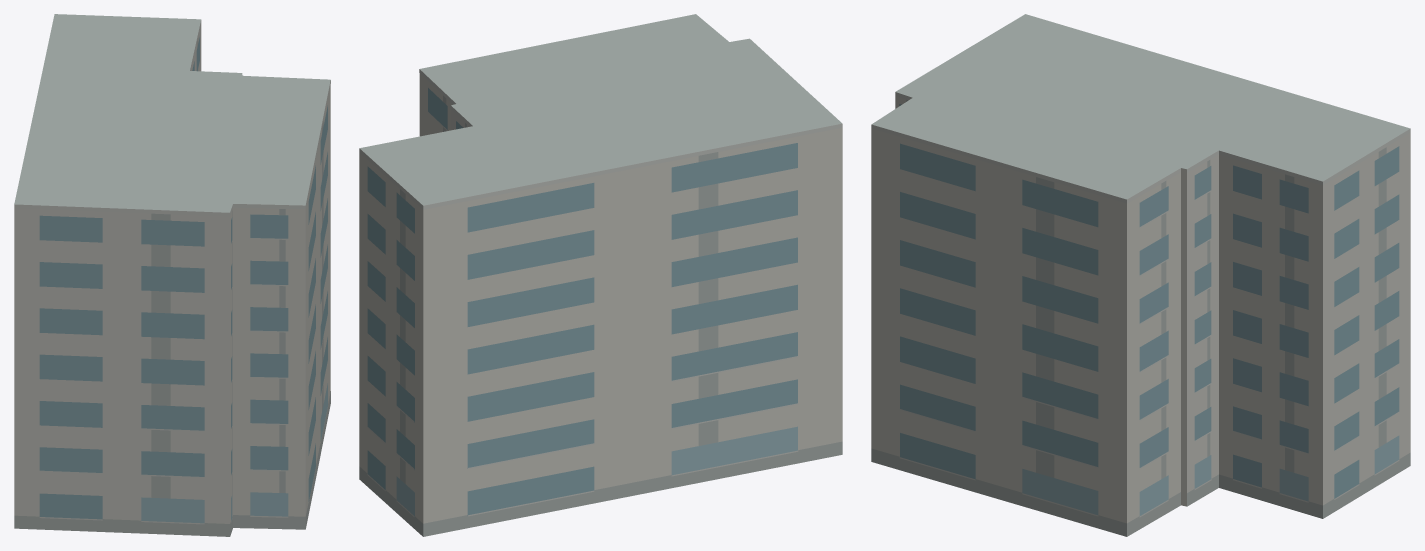
File: survey-upis-32928887.glb
3 views of the same model, side by side, from view 1: azimuth 30°, elevation 25°; view 2: azimuth 150°, elevation 25°; view 3: azimuth 270°, elevation 25° (orthographic). The views are drawn at different scales.
Visible parts, largest first — view 1: survey-upis-32928887.tmp; view 2: survey-upis-32928887.tmp; view 3: survey-upis-32928887.tmp.
Part boxes in pixels (<box>): survey-upis-32928887.tmp: <box>14,14,330,536</box>; survey-upis-32928887.tmp: <box>359,14,842,536</box>; survey-upis-32928887.tmp: <box>871,14,1410,536</box>.
Bounding box in the file's own units: 23.84 × 20.2 × 29.27.
